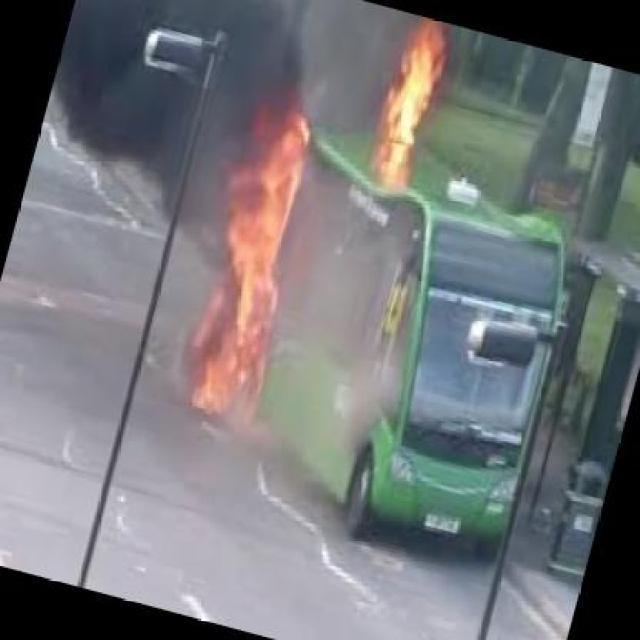Fire: (186, 110, 322, 410), (364, 28, 463, 188)
Smoke: (59, 0, 175, 235), (204, 3, 348, 93)
